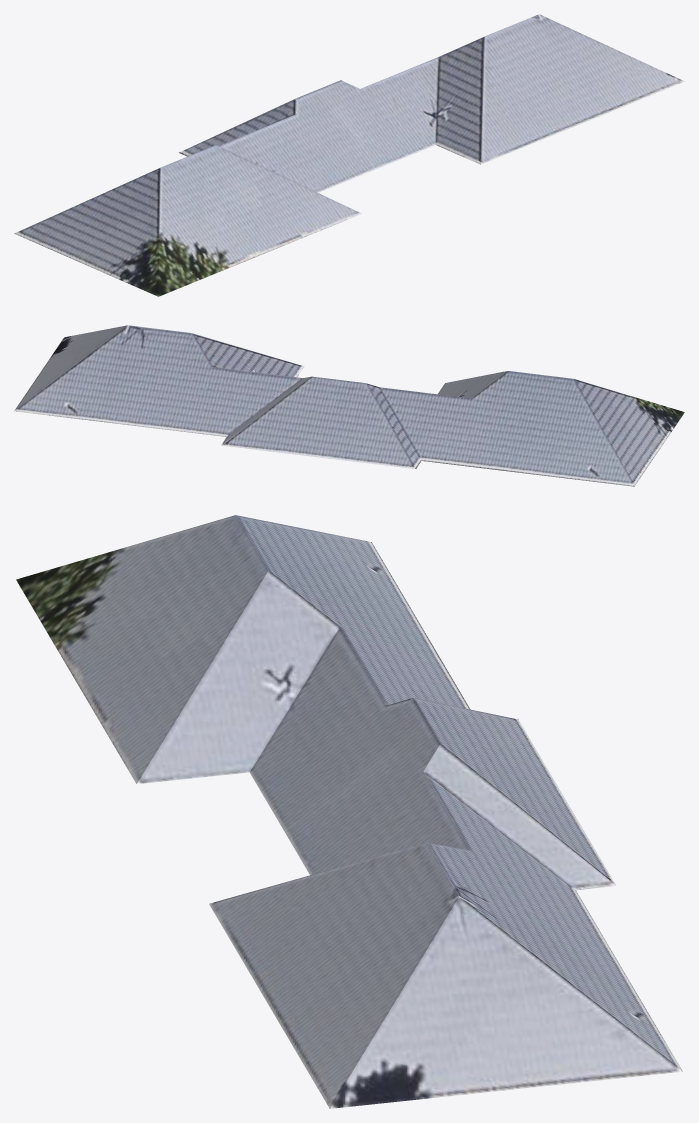
File: BK39_500_014032_0059_roof.obj
3 renders of one model, top to bottom at view 1: azimuth 30°, elevation 25°; view 2: azimuth 150°, elevation 25°; view 3: azimuth 270°, elevation 25°, orthographic. The views are drawn at different scales.
Visible parts, largest first — view 1: BK39_500_014032_0059_roof; view 2: BK39_500_014032_0059_roof; view 3: BK39_500_014032_0059_roof.
Boxes of the visible parts, x1,y1,x2,y2 form: BK39_500_014032_0059_roof: [14, 14, 684, 296]; BK39_500_014032_0059_roof: [14, 325, 684, 486]; BK39_500_014032_0059_roof: [16, 515, 682, 1108].
Size of the model in its own units: 711 by 70 by 354.
1 material, 1 textured.
